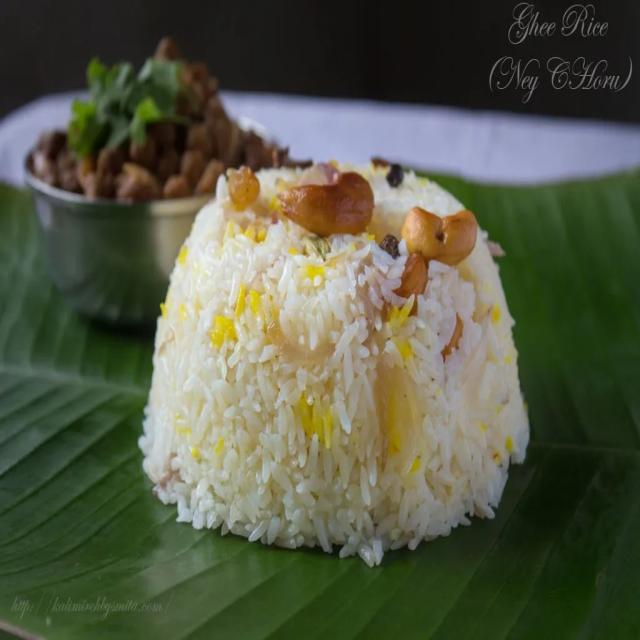nei satham: (136, 119, 536, 572)
